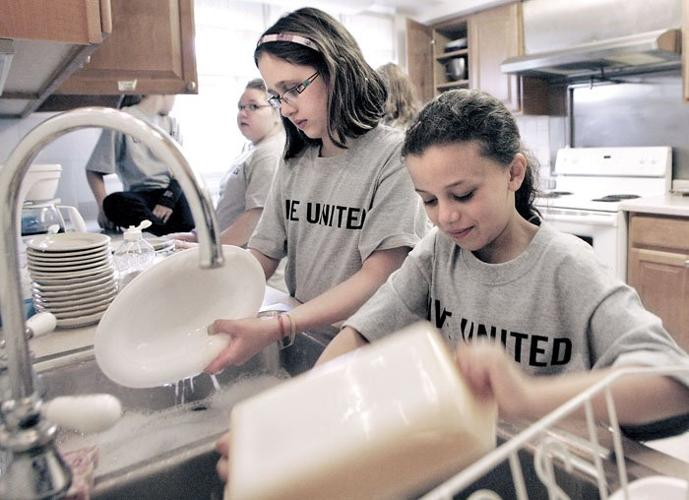person: (200, 10, 430, 365)
